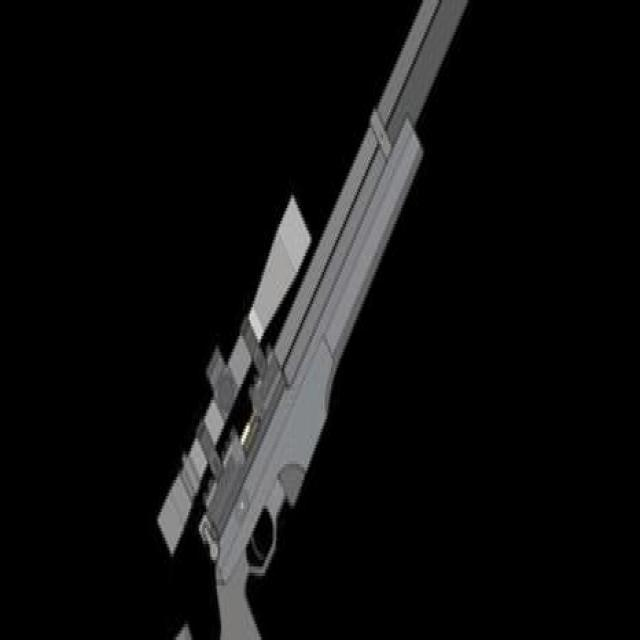weapon: (156, 1, 468, 640)
